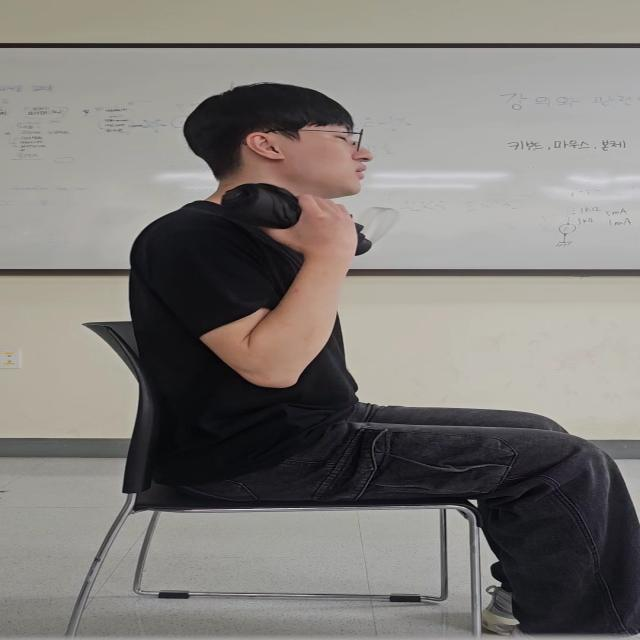curl: (146, 196, 372, 402)
